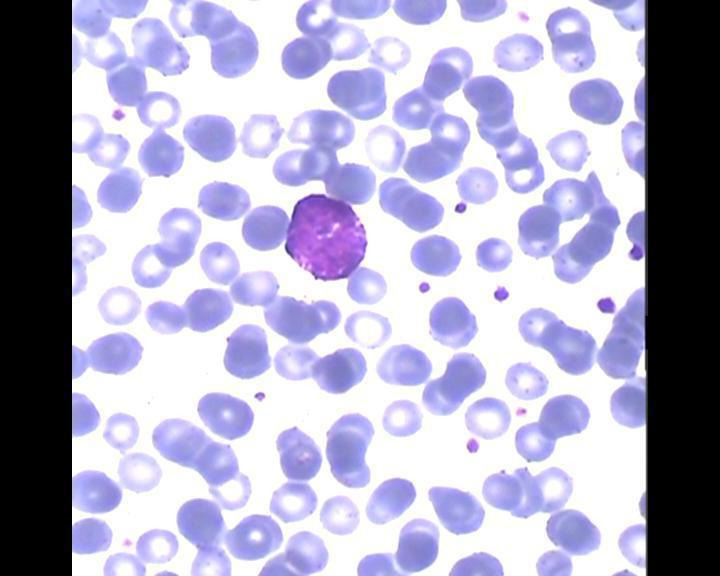baso: (280, 190, 371, 283)
